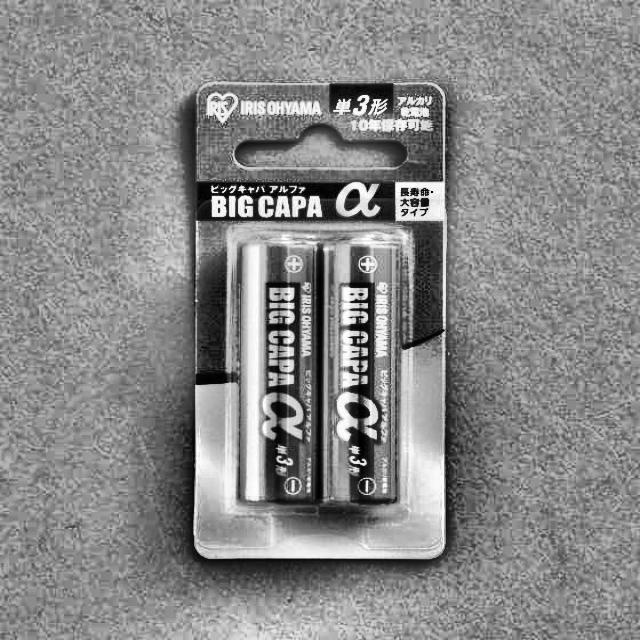drycell: (315, 233, 406, 511), (236, 235, 317, 510)
